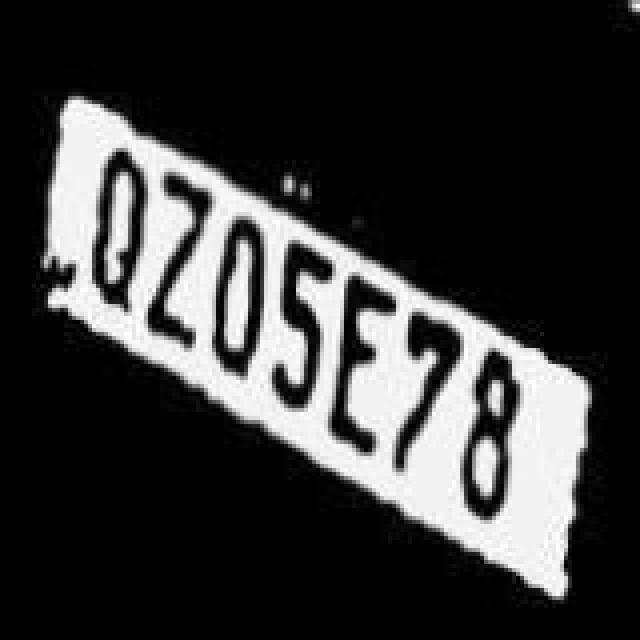5: (268, 242, 340, 426)
7: (386, 318, 466, 498)
8: (466, 356, 530, 544)
E: (328, 276, 392, 456)
O: (218, 218, 278, 398)
Q: (86, 142, 142, 322)
Z: (148, 172, 212, 356)
